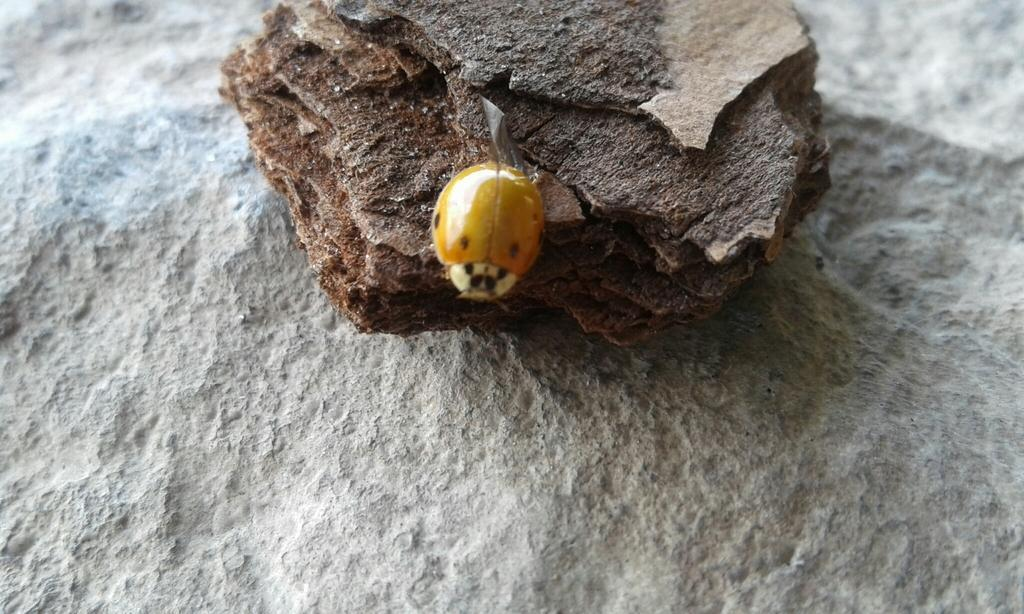ladybug: (431, 159, 553, 309)
